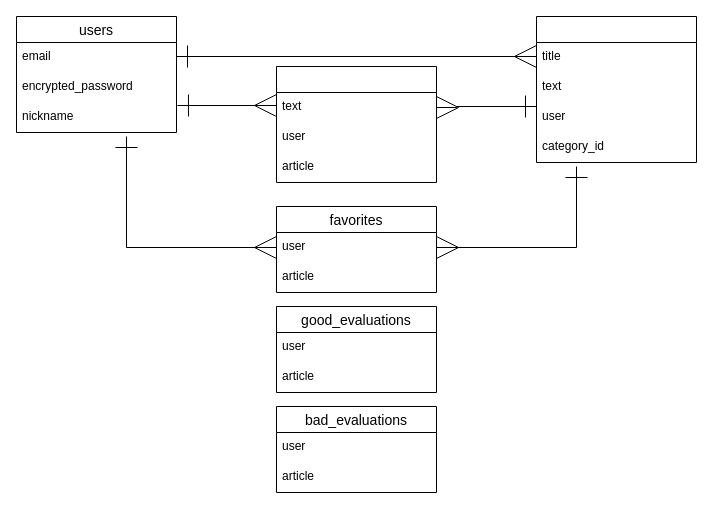
This 713x509 diagram has some shape labels left out. The box of each missing label's shape, as (x1, y1, x2, y2) in pixels:
articles: (536, 16, 696, 162)
comments: (276, 66, 436, 182)
